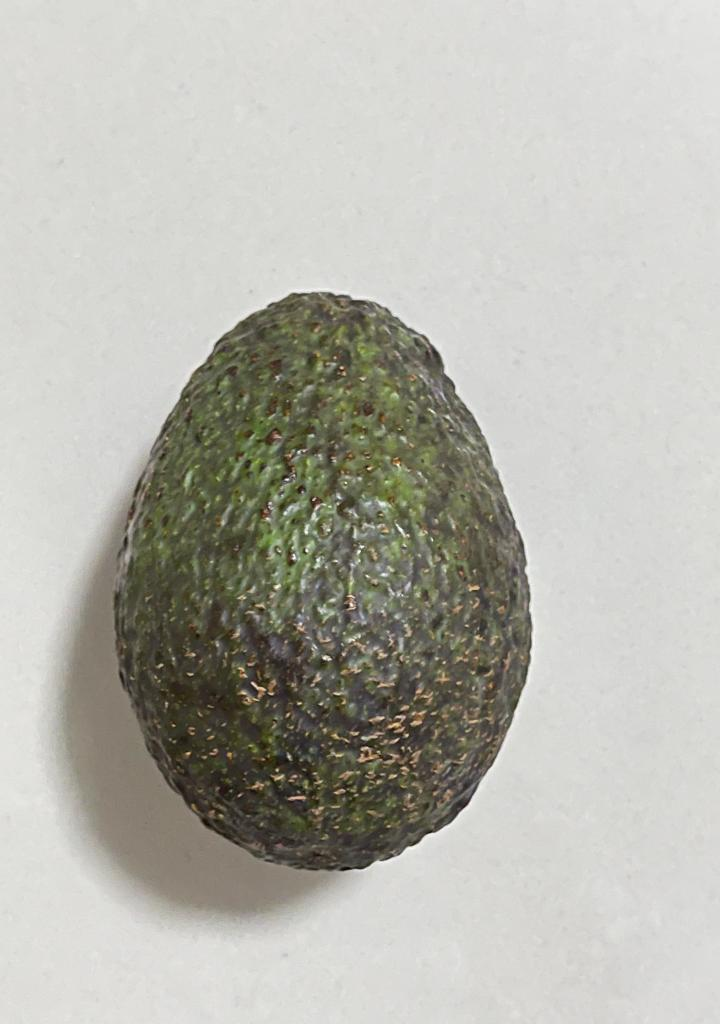Level1: (98, 272, 546, 893)
